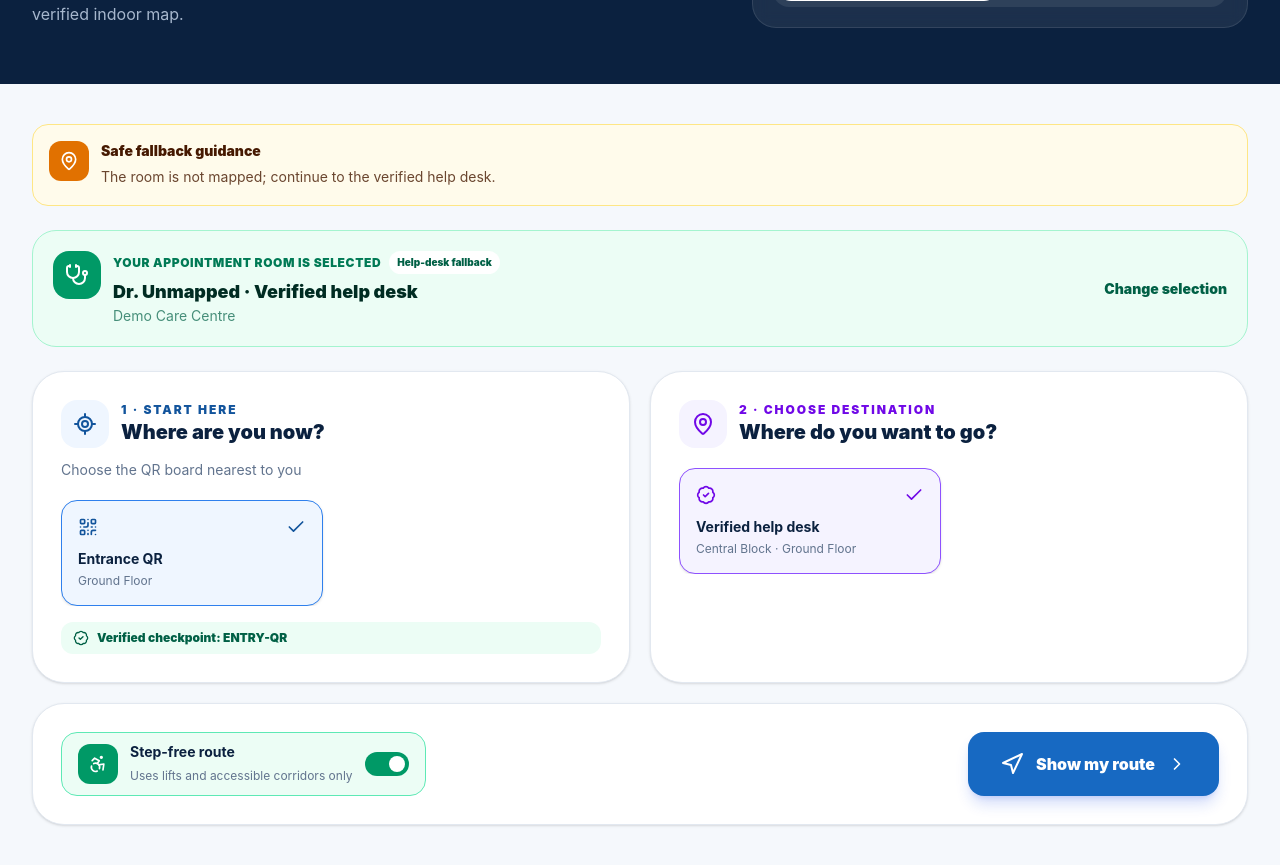
Scenario: NavigationPage resilient appointment navigation › shows a bilingual help-desk fallback and still renders the Dijkstra route
The width and height of the screenshot is (1280, 865).
(page scrolled)
Expected: the text "Safe fallback guidance" is shown, [101,142,261,159]
Expected: the text "The room is not mapped; continue to the verified help desk." is shown, [101,165,496,189]
Click the button "Show my route" at coordinates (1094, 764), box [968,732,1219,796]
(page scrolled)
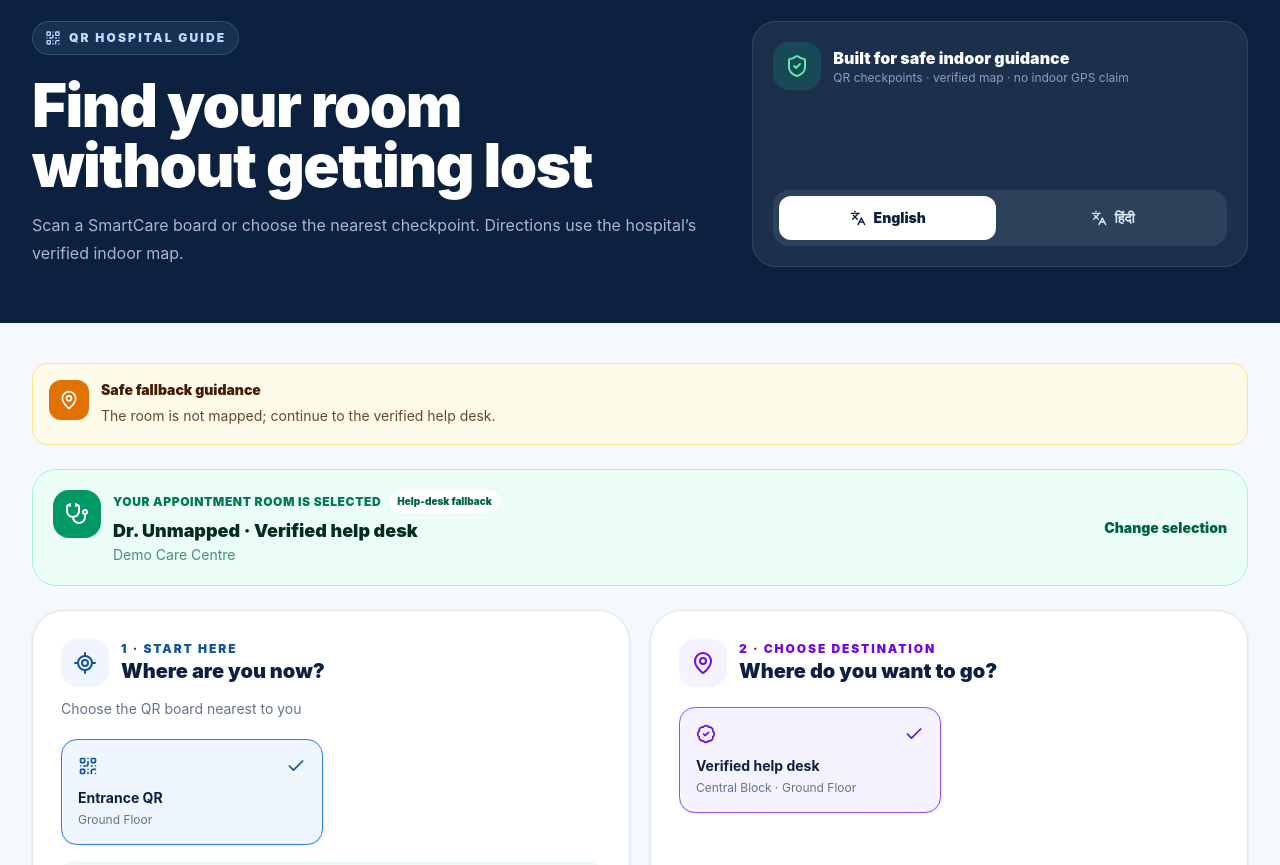
Expected: the text "Verified help desk" is shown, [696,757,820,774]
Click the button "हिंदी" at coordinates (1113, 218), box [1004,196,1221,240]
(page scrolled)
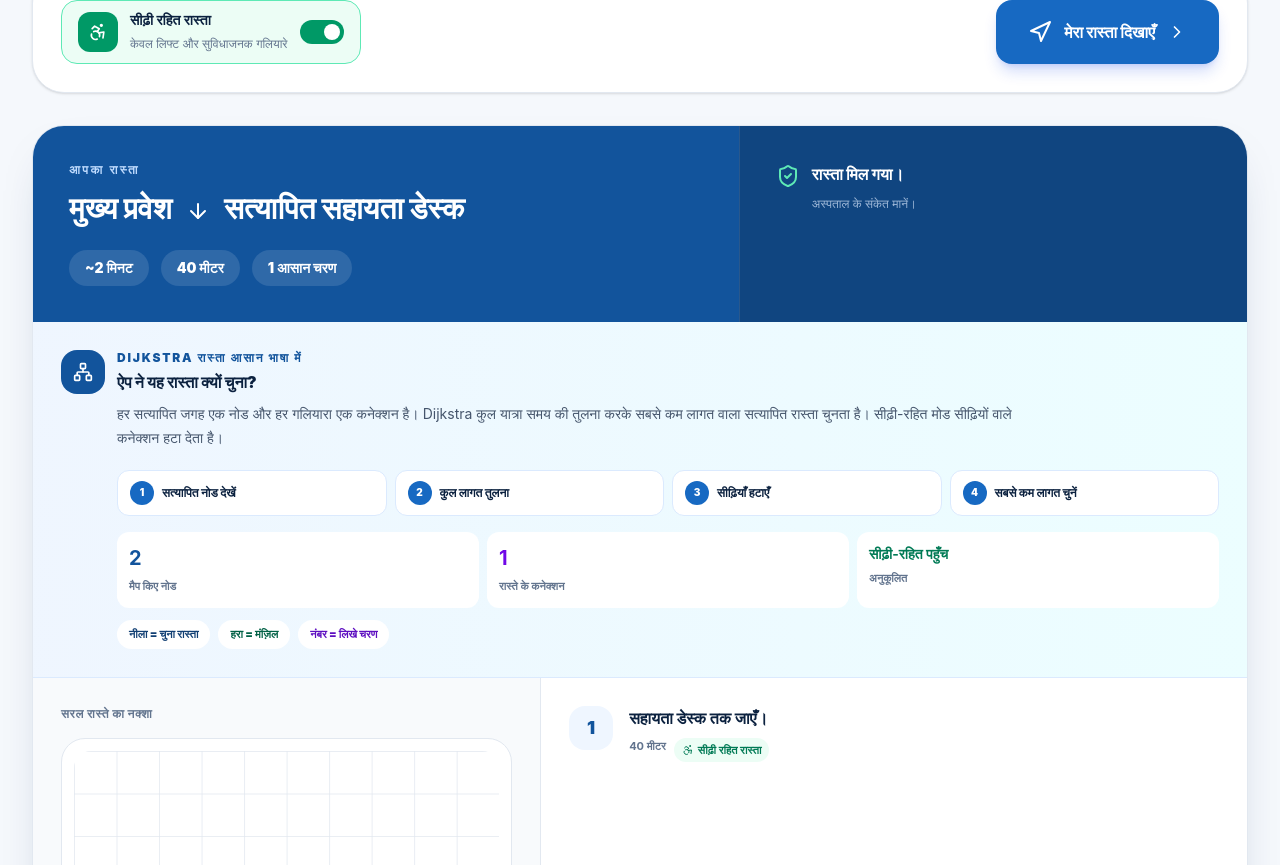
Expected: the heading "ऐप ने यह रास्ता क्यों चुना?" is shown, [117,372,257,392]
